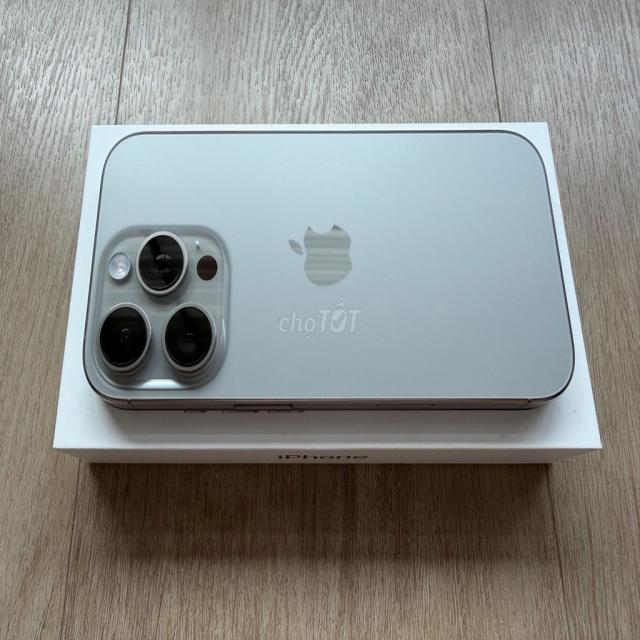gen_16: (82, 124, 578, 419)
